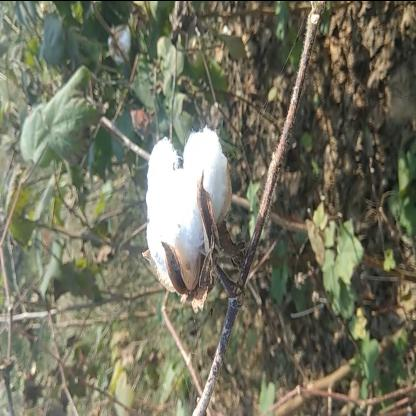cotton_ready: (128, 126, 284, 320)
